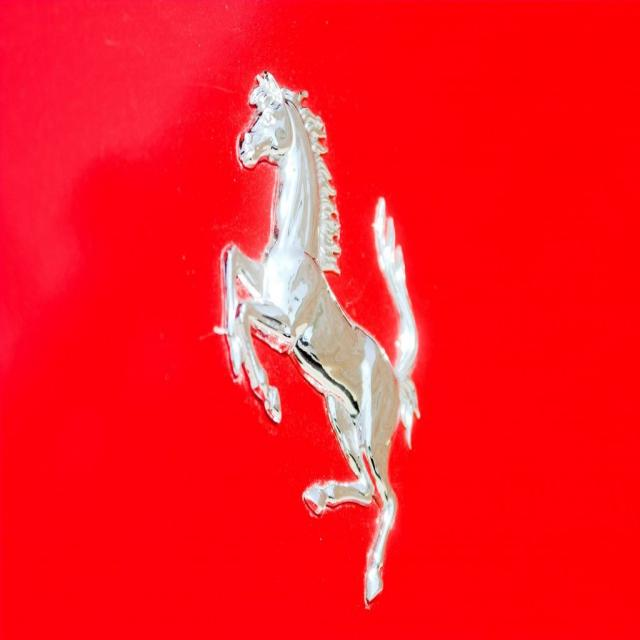Horse: (222, 71, 420, 594)
